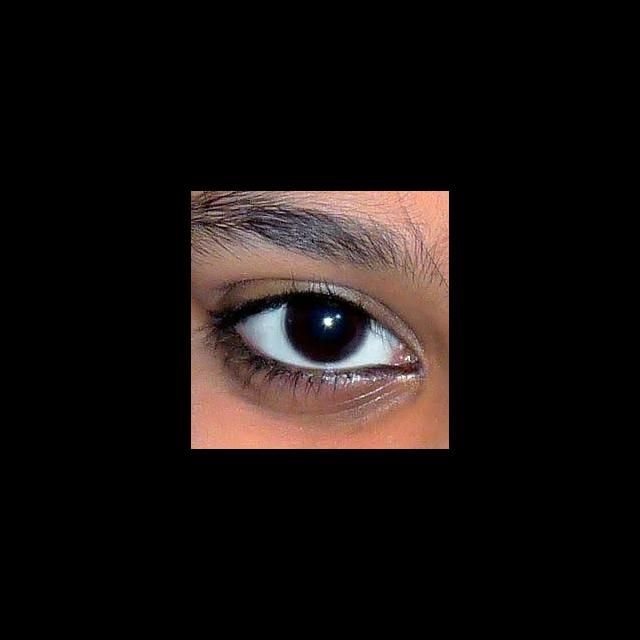eye: (235, 298, 406, 372)
iris: (285, 300, 369, 365)
